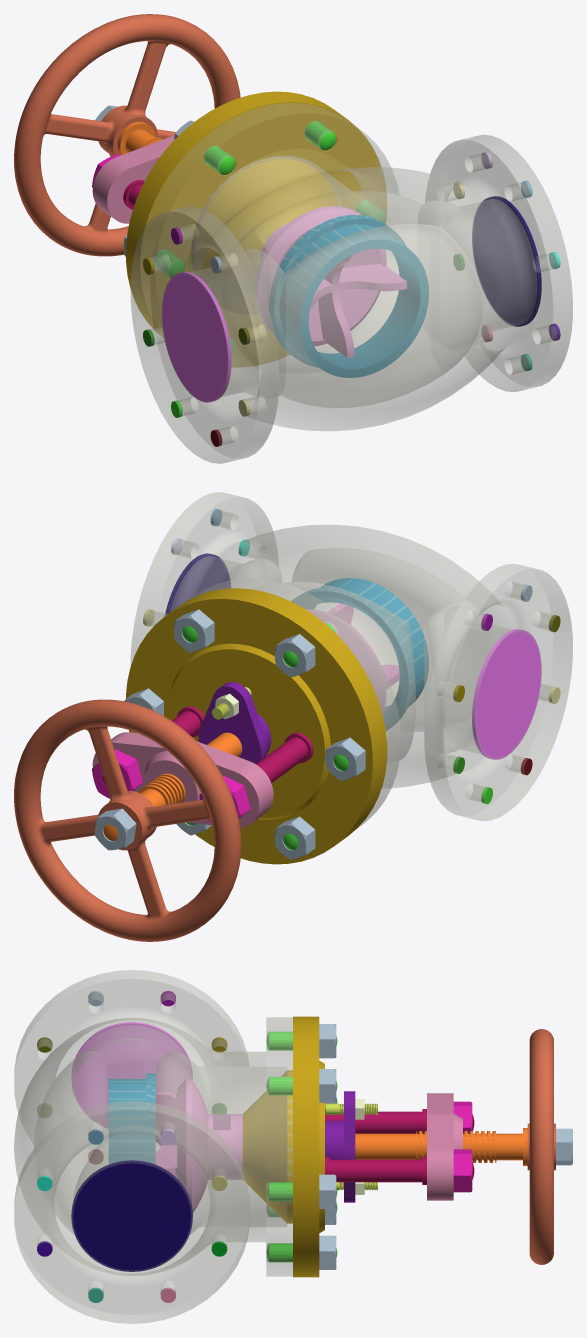
Rendered from StopValveglbfile.glb.
The picture shows the model from 3 angles, top to bottom: view 1: azimuth 30°, elevation 25°; view 2: azimuth 150°, elevation 25°; view 3: azimuth 270°, elevation 25°; orthographic projection. The views are drawn at different scales.
Visible parts, largest first — view 1: body Modified structure, cover, HandWheel, VALVE_SEAT, valve, LID9, LID10, bridge, SPINDLE, STUD M023, STUD M024, STUD M025; view 2: body Modified structure, cover, HandWheel, LID9, VALVE_SEAT, bridge, GLAND, valve, LID10, SPINDLE, collarStud001, nut M028 (+8 smaller); view 3: body Modified structure, cover, LID10, LID9, valve, HandWheel, VALVE_SEAT, SPINDLE, bridge, collarStud, GLAND, collarStud001 (+11 smaller).
Part boxes in pixels (box(x1,y1,x2,y2)): body Modified structure: box(130, 103, 572, 463); cover: box(126, 91, 386, 367); HandWheel: box(14, 14, 240, 256); VALVE_SEAT: box(269, 214, 428, 377); valve: box(255, 206, 406, 357); LID9: box(161, 272, 231, 402); LID10: box(472, 196, 541, 326); bridge: box(92, 135, 174, 223); SPINDLE: box(117, 121, 162, 155); STUD M023: box(304, 121, 335, 150); STUD M024: box(203, 145, 235, 174); STUD M025: box(153, 249, 184, 277); body Modified structure: box(130, 492, 572, 827); cover: box(126, 588, 387, 864); HandWheel: box(14, 699, 241, 941); LID9: box(472, 629, 541, 759); VALVE_SEAT: box(291, 578, 428, 730); bridge: box(92, 732, 273, 827); GLAND: box(198, 682, 271, 763); valve: box(306, 603, 399, 713); LID10: box(165, 553, 230, 615); SPINDLE: box(103, 732, 242, 840); collarStud001: box(256, 732, 313, 782); nut M028: box(94, 808, 136, 850); body Modified structure: box(14, 970, 292, 1323); cover: box(242, 1016, 324, 1277); LID10: box(71, 1160, 192, 1271); LID9: box(71, 1022, 192, 1128); valve: box(155, 1079, 242, 1212); HandWheel: box(527, 1029, 555, 1264); VALVE_SEAT: box(108, 1073, 155, 1163); SPINDLE: box(355, 1128, 527, 1165); bridge: box(427, 1093, 462, 1200); collarStud: box(325, 1156, 474, 1184); GLAND: box(325, 1091, 355, 1202); collarStud001: box(325, 1109, 474, 1133).
Bounding box in the file's own units: 0.35 × 0.276 × 0.5914.
